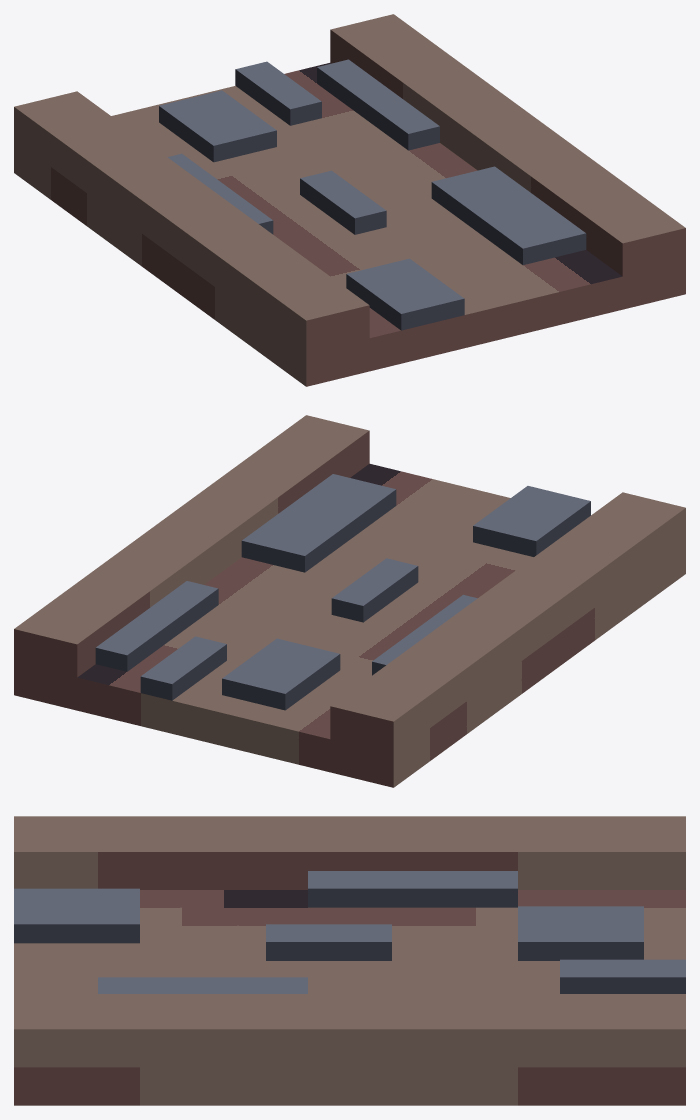
Rendered from road.gltf.
3 renders of one model, top to bottom at view 1: azimuth 30°, elevation 25°; view 2: azimuth 150°, elevation 25°; view 3: azimuth 270°, elevation 25°, orthographic. The views are drawn at different scales.
Parts seen in each view (by area): view 1: cube (×10); view 2: cube (×10); view 3: cube (×9).
Part boxes in pixels (x1,y1,x2,y2): cube (×10): (14,14,685,386); cube (×10): (14,415,685,787); cube (×9): (14,816,685,1105).
Size of the model in its own units: 0.75 by 0.125 by 1.
1 material, 1 textured.
